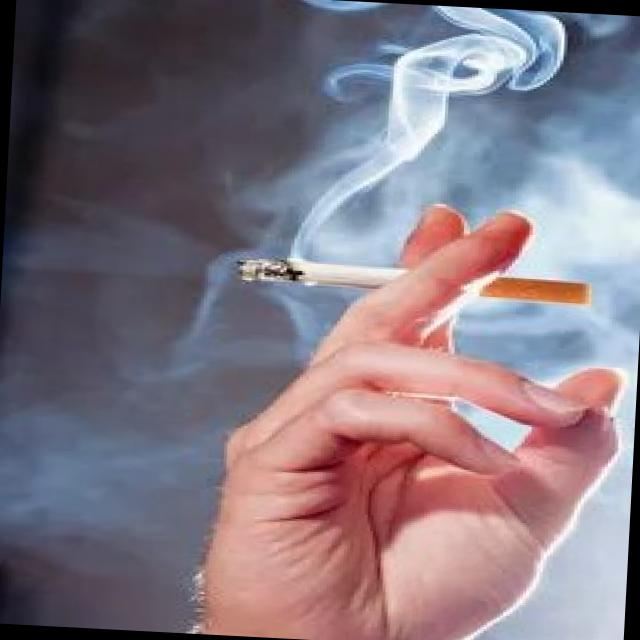smoke: (226, 253, 596, 312)
